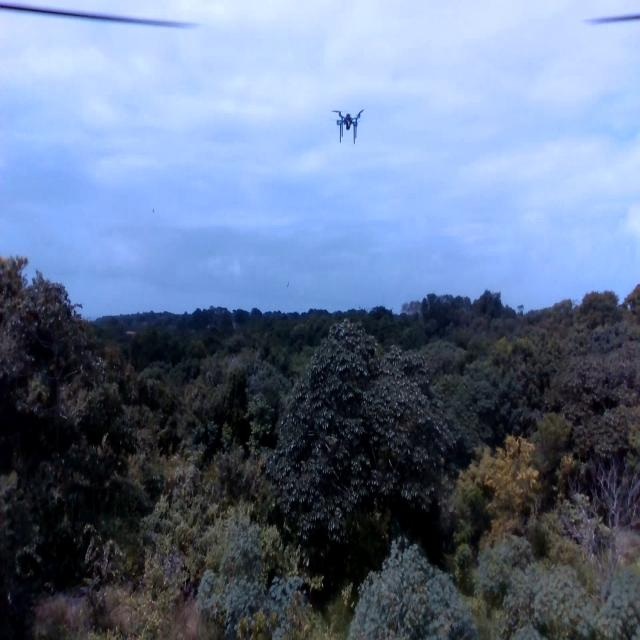-uav-: (328, 96, 369, 144)
